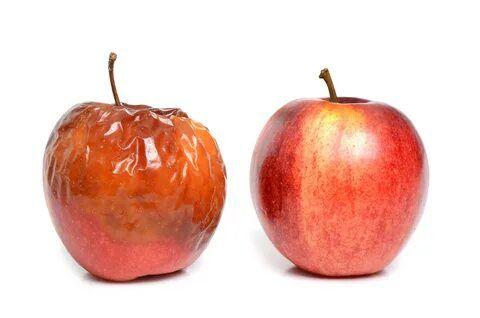Apple: (44, 101, 224, 280), (249, 99, 431, 276)
